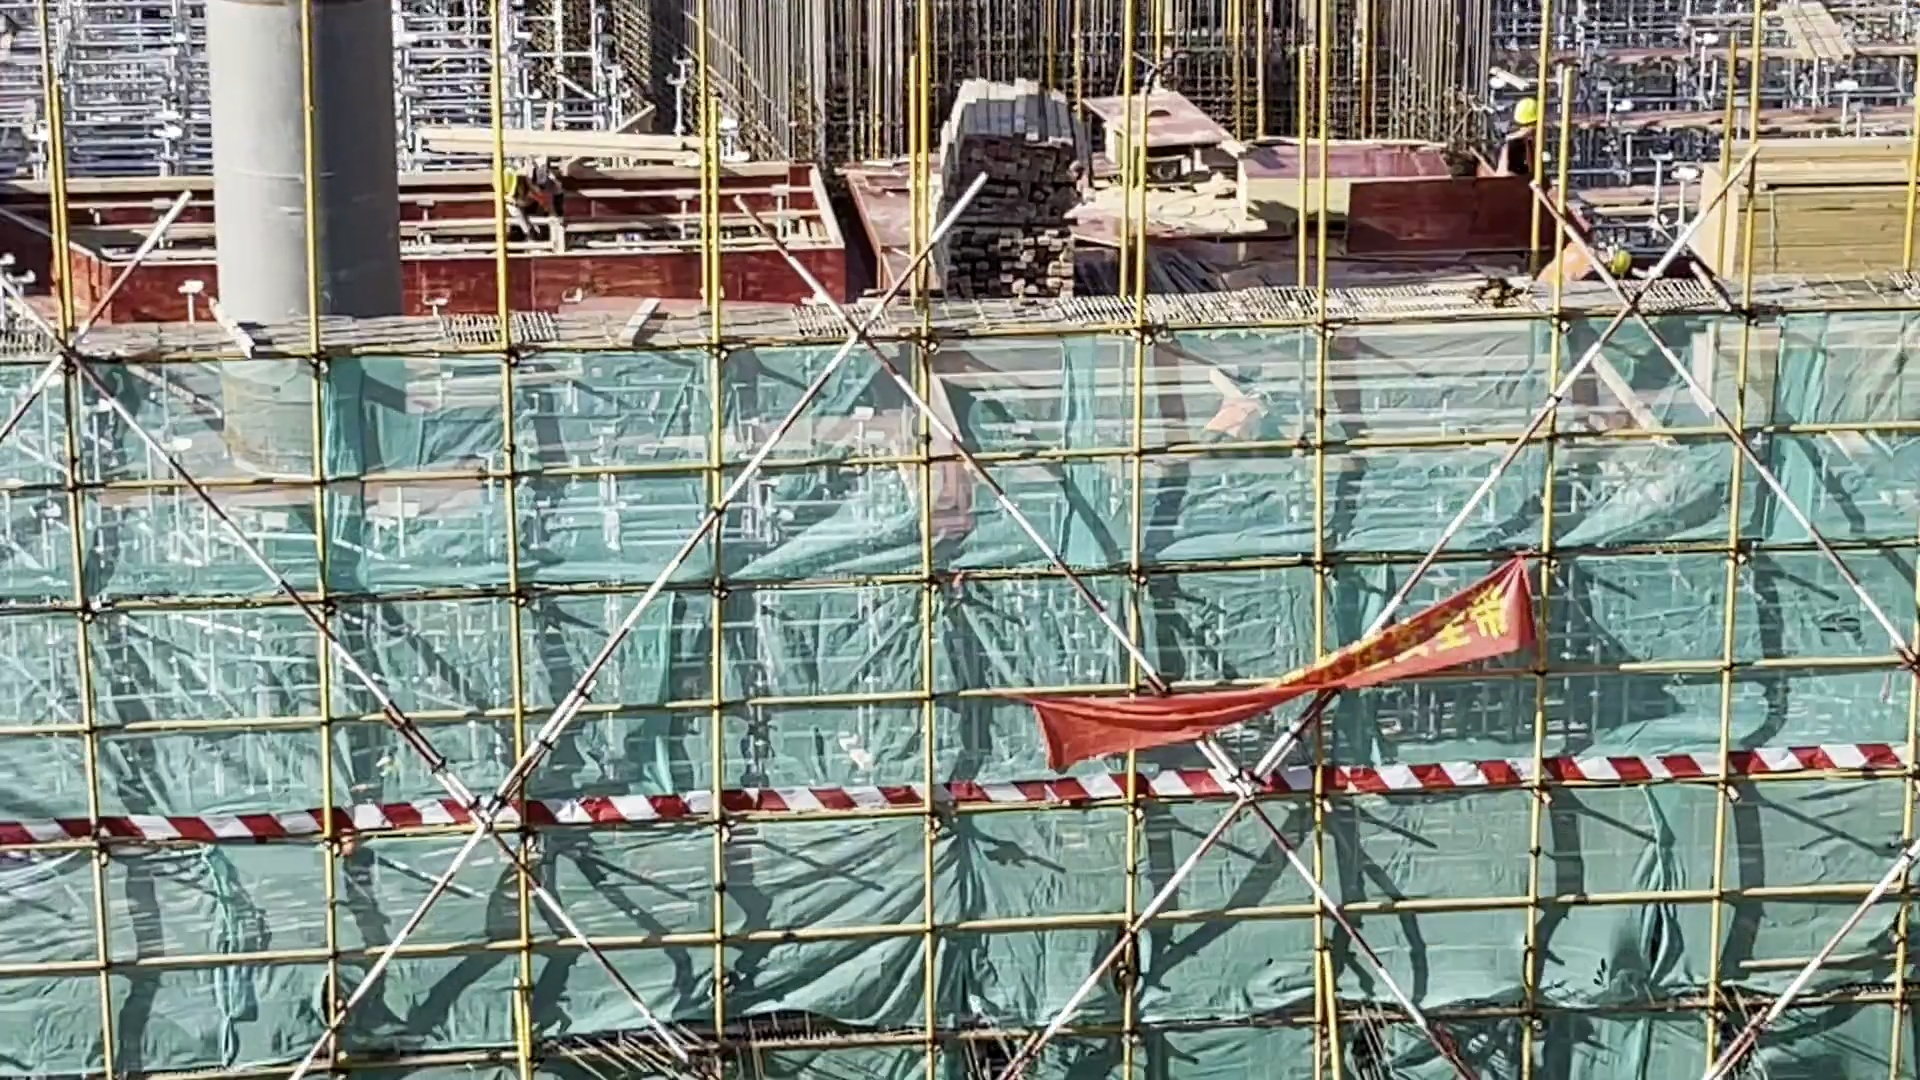helmet: (1511, 93, 1541, 126), (501, 158, 519, 198)
person: (497, 153, 563, 226)
slogan: (1018, 550, 1576, 776)
wood: (928, 57, 1101, 311), (1688, 117, 1920, 293)
